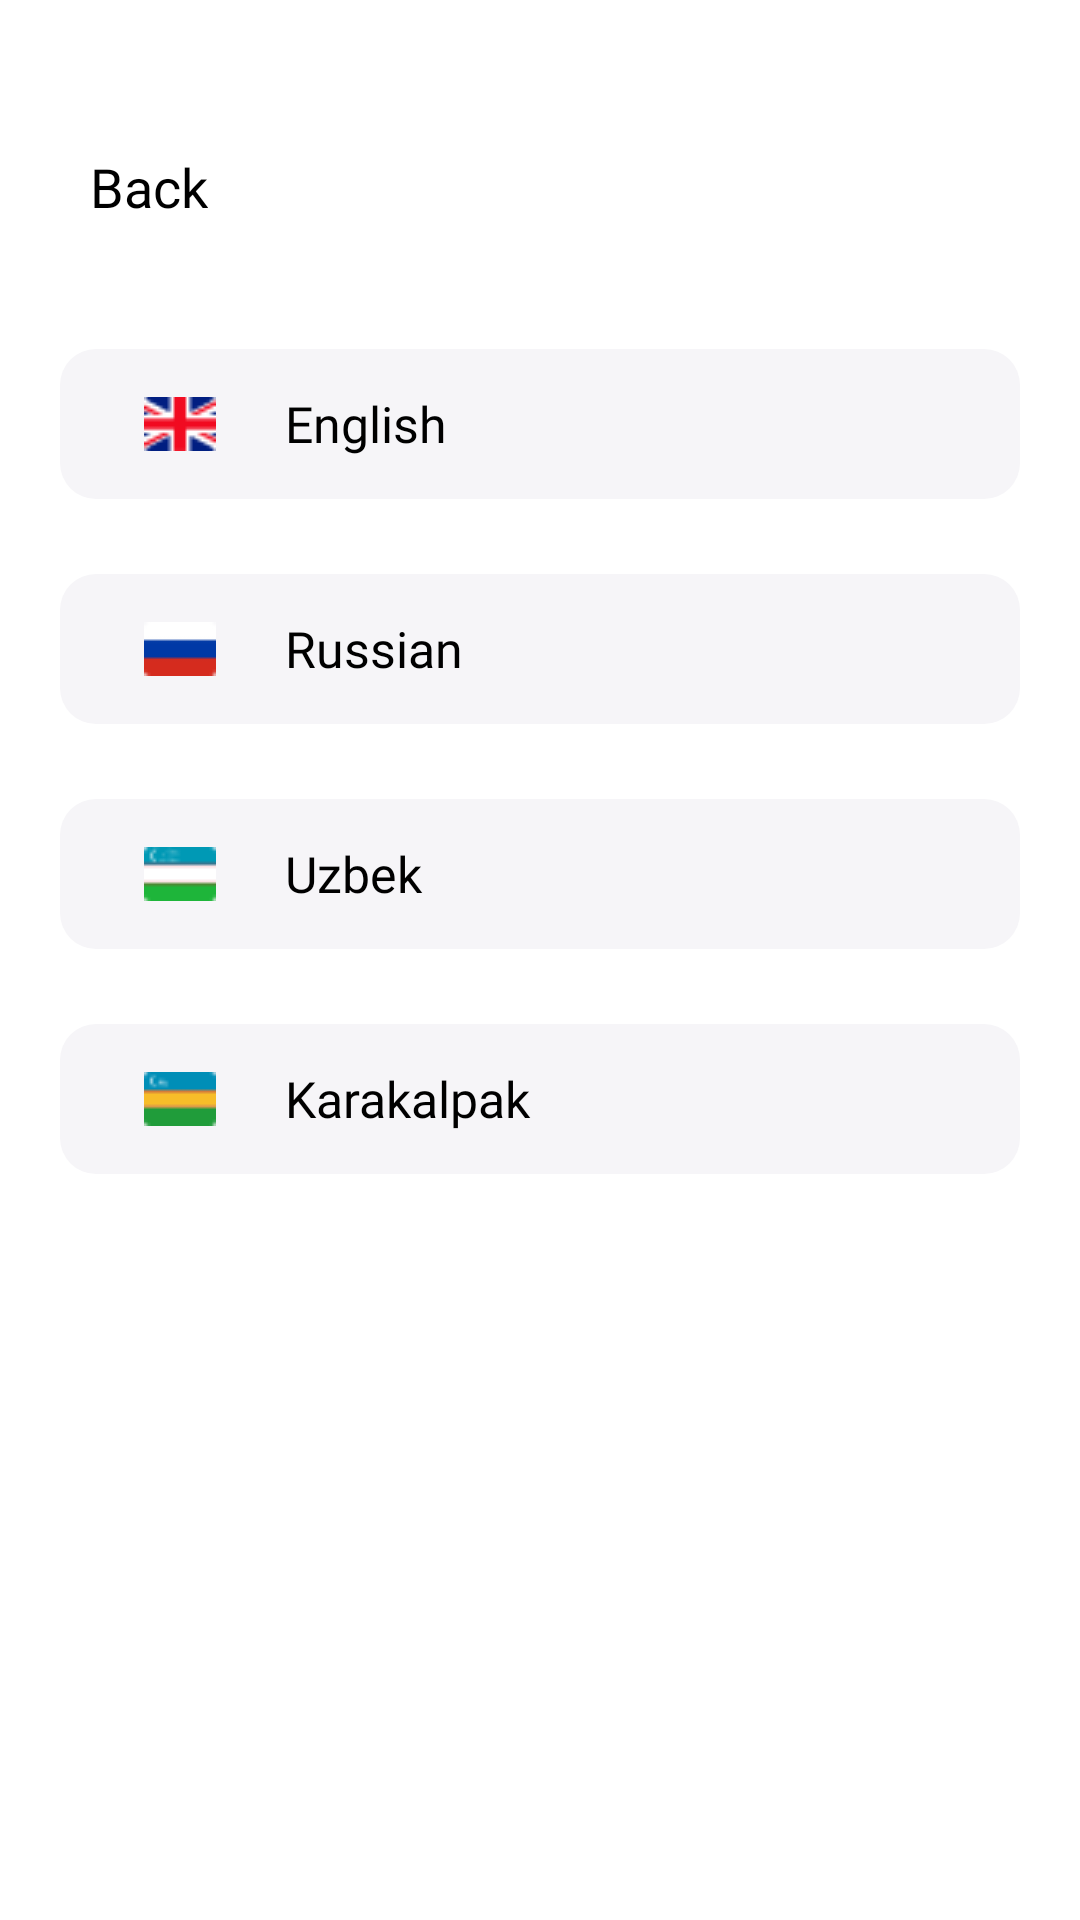

Icon bounding boxes for this 1080 x 1920 phone screenshot, format (x1, y1, x2, y2):
uzb: (144, 847, 216, 901)
